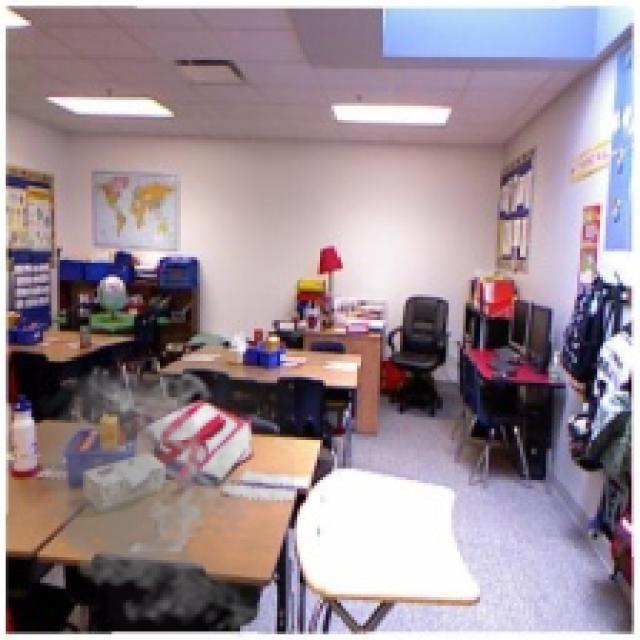smoke: (14, 363, 297, 637)
